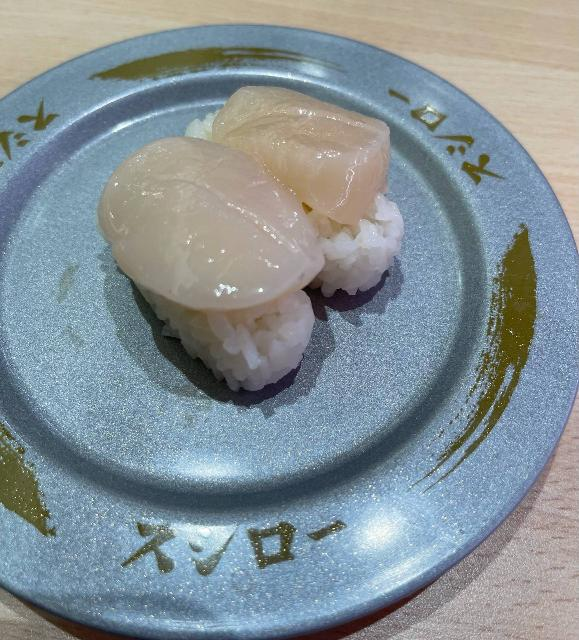janwhite: (0, 24, 572, 617)
